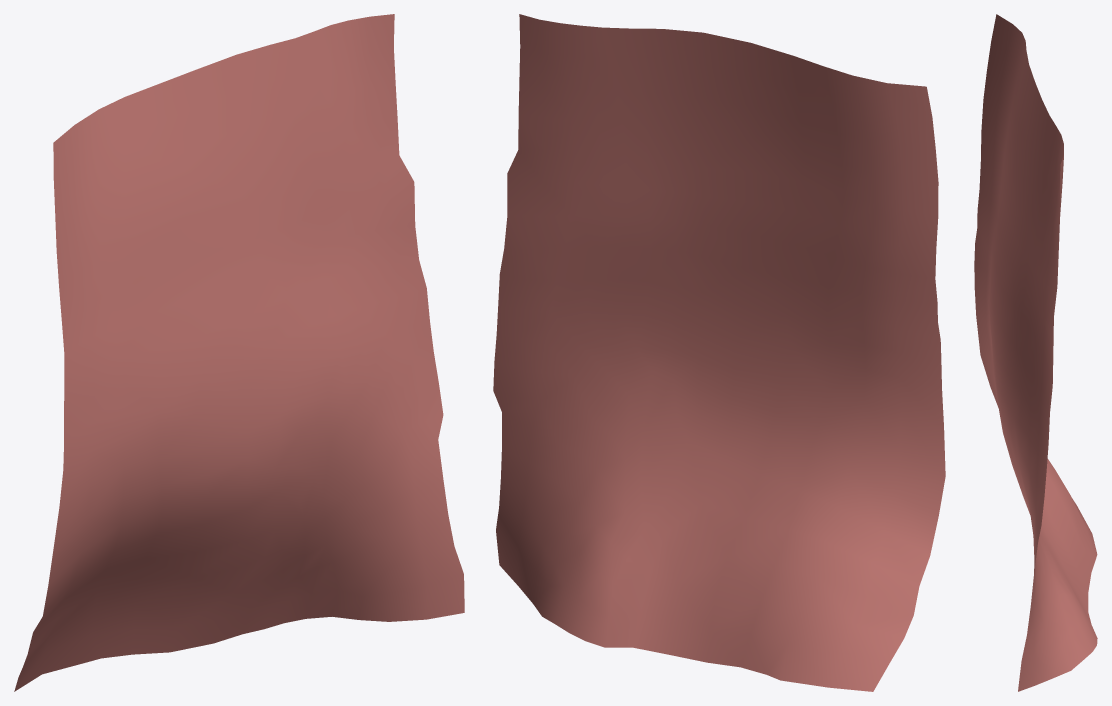
3 renders of one model, left to right at view 1: azimuth 30°, elevation 25°; view 2: azimuth 150°, elevation 25°; view 3: azimuth 270°, elevation 25°, orthographic. The views are drawn at different scales.
Parts seen in each view (by area): view 1: ZA_d0449cae16906b06; view 2: ZA_d0449cae16906b06; view 3: ZA_d0449cae16906b06.
Boxes of the visible parts, x1,y1,x2,y2 form: ZA_d0449cae16906b06: [14, 14, 464, 691]; ZA_d0449cae16906b06: [493, 14, 945, 691]; ZA_d0449cae16906b06: [974, 14, 1097, 691].
Bounding box in the file's own units: 0.0714 × 0.0968 × 0.0204.
